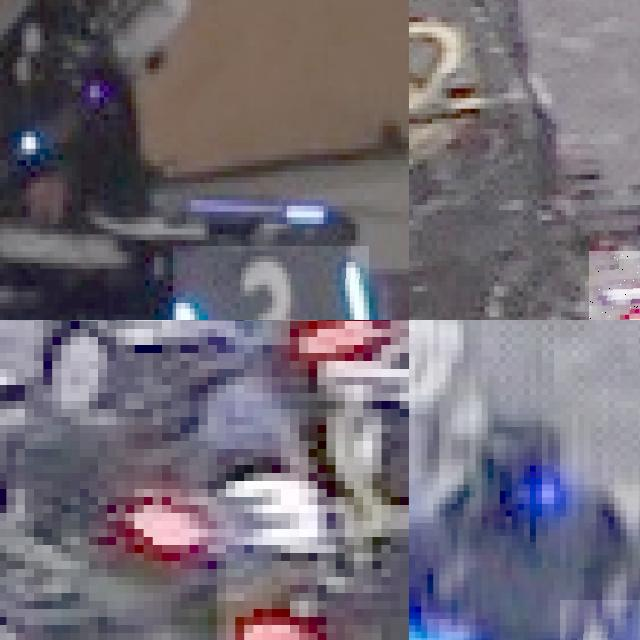B3: (172, 245, 369, 320), (560, 599, 640, 640)
R1: (589, 250, 640, 320)
